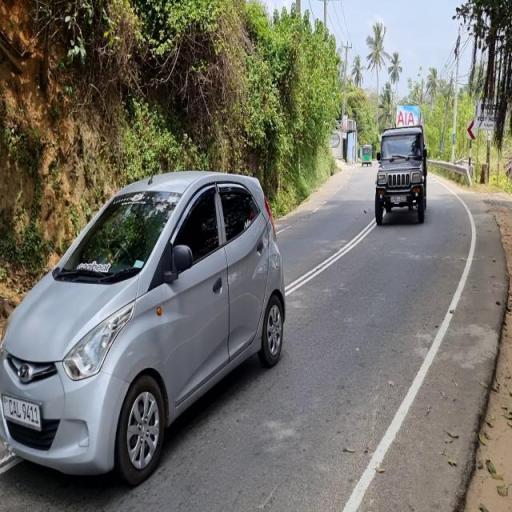double_white_line: (285, 220, 374, 297)
